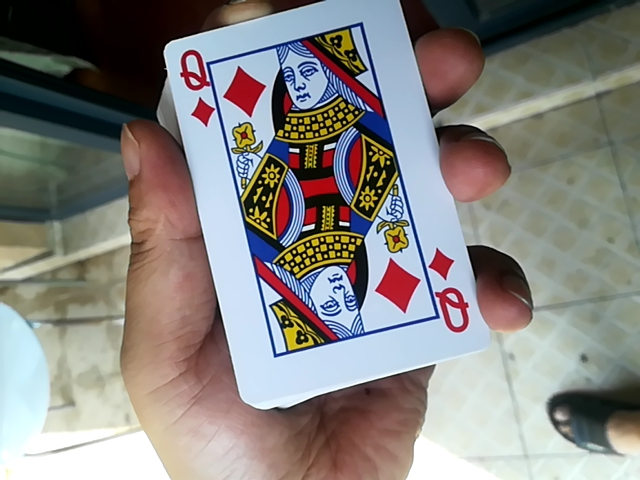fk q: (164, 7, 472, 431)
